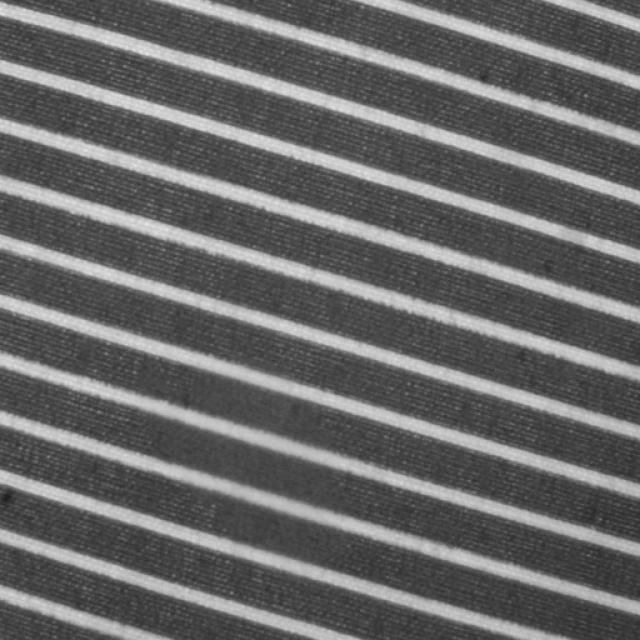Stain-Defect: (155, 420, 336, 506), (161, 371, 319, 440), (221, 500, 332, 559)
